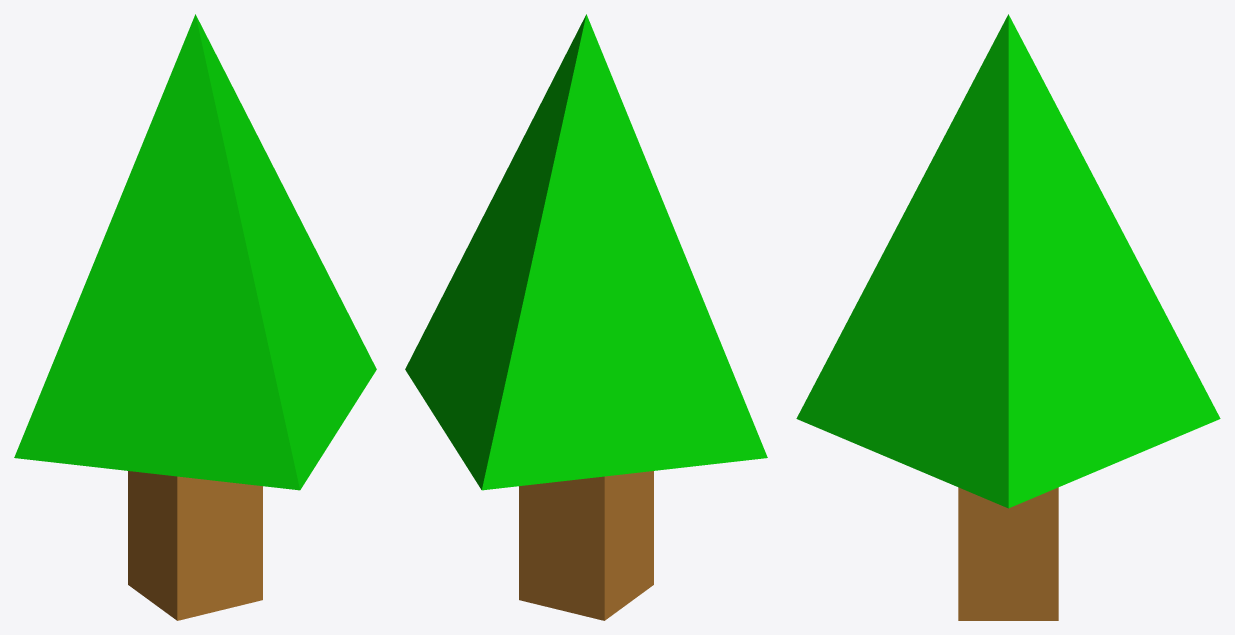
Rendered from tree1.fbx.
3 views of the same model, side by side, from view 1: azimuth 30°, elevation 25°; view 2: azimuth 150°, elevation 25°; view 3: azimuth 270°, elevation 25° (orthographic).
Parts seen in each view (by area): view 1: pPyramid1, pCube1; view 2: pPyramid1, pCube1; view 3: pPyramid1, pCube1.
Part boxes in pixels (left/top/right/bottom): pPyramid1: left=14, top=14, right=376, bottom=490; pCube1: left=128, top=471, right=262, bottom=620; pPyramid1: left=405, top=14, right=767, bottom=490; pCube1: left=519, top=471, right=653, bottom=620; pPyramid1: left=796, top=14, right=1220, bottom=508; pCube1: left=958, top=487, right=1058, bottom=620.
Size of the model in its own units: 0.8485 by 1.29 by 0.8485.
